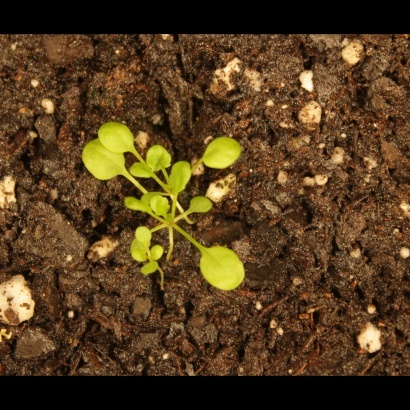leaf: (194, 236, 251, 298), (77, 135, 129, 185), (203, 133, 248, 174), (100, 120, 141, 157), (167, 158, 192, 199), (143, 142, 175, 172), (123, 193, 152, 218), (126, 160, 156, 184), (188, 192, 216, 215), (139, 263, 162, 286), (130, 224, 153, 247), (125, 246, 148, 269), (149, 243, 172, 266), (150, 195, 173, 218)
